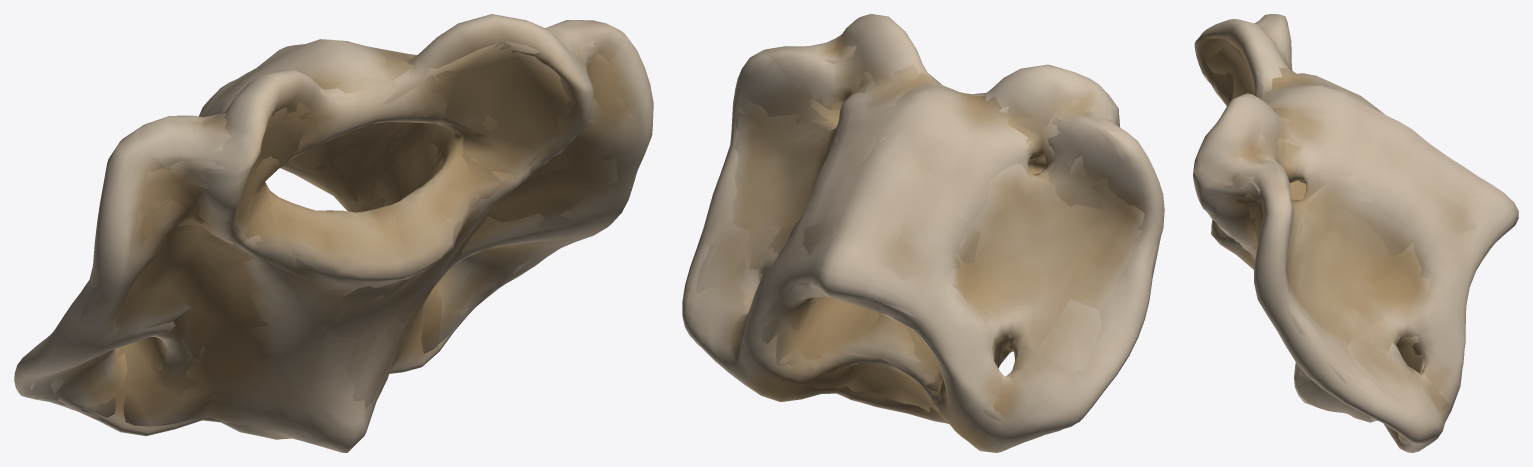
The model's file is vertebra cervicalis 1 atlas.fbx.
3 views of the same model, side by side, from view 1: azimuth 30°, elevation 25°; view 2: azimuth 150°, elevation 25°; view 3: azimuth 270°, elevation 25° (orthographic). The views are drawn at different scales.
Visible parts, largest first — view 1: vertebra cervicalis 1 atlas, vertebra cervicalis 1 atlas low; view 2: vertebra cervicalis 1 atlas, vertebra cervicalis 1 atlas low; view 3: vertebra cervicalis 1 atlas, vertebra cervicalis 1 atlas low.
Part boxes in pixels (x1=…): vertebra cervicalis 1 atlas: x1=14, y1=14, x2=653, y2=452; vertebra cervicalis 1 atlas low: x1=30, y1=40, x2=633, y2=431; vertebra cervicalis 1 atlas: x1=682, y1=14, x2=1164, y2=452; vertebra cervicalis 1 atlas low: x1=696, y1=35, x2=1160, y2=422; vertebra cervicalis 1 atlas: x1=1193, y1=14, x2=1518, y2=452; vertebra cervicalis 1 atlas low: x1=1202, y1=37, x2=1492, y2=448.
Bounding box in the file's own units: 14.56 × 10.95 × 9.24.
1 material, 1 textured.
